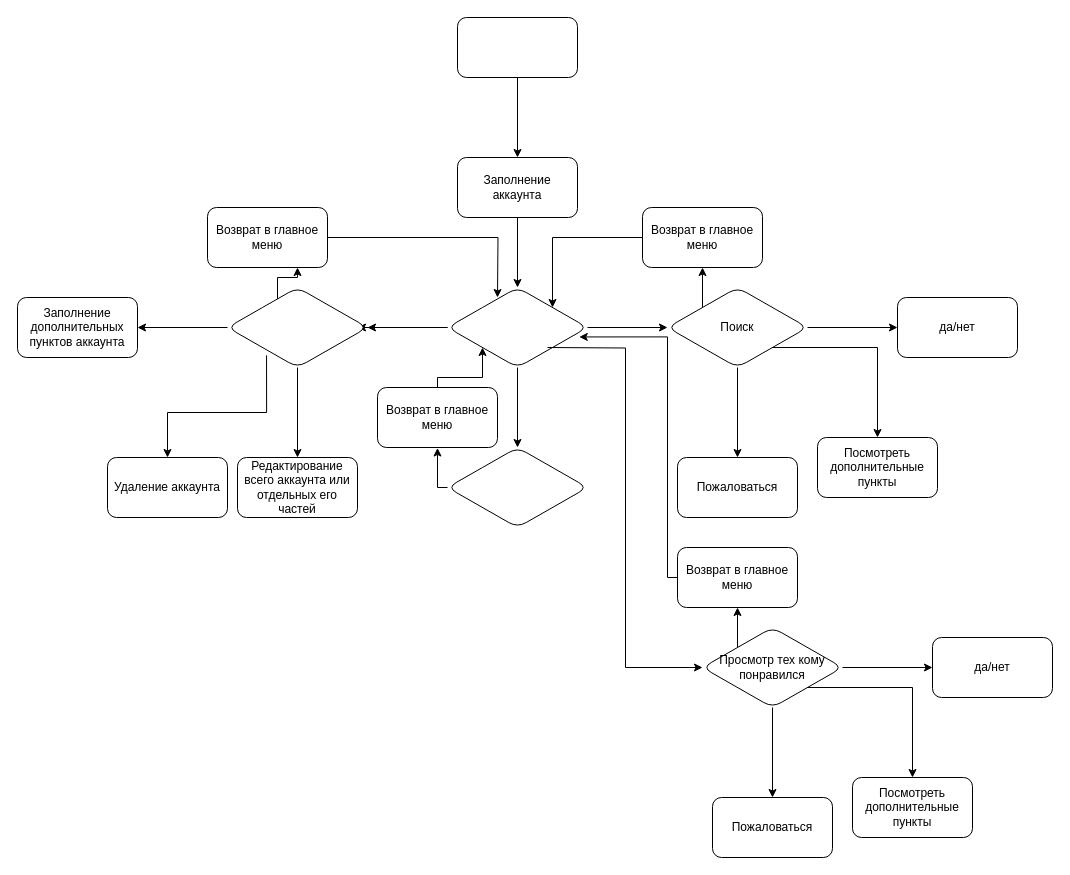
Image size: 1070x875. Some labels were removed from this diagram. The centre of each missing label's shape, as x and y in pixels:
"/start" goes at (517,47).
"Выбор действий" goes at (517,327).
"Настройка поиска" goes at (517,487).
"Просмотр и редактирование аккаунта" goes at (297,327).
